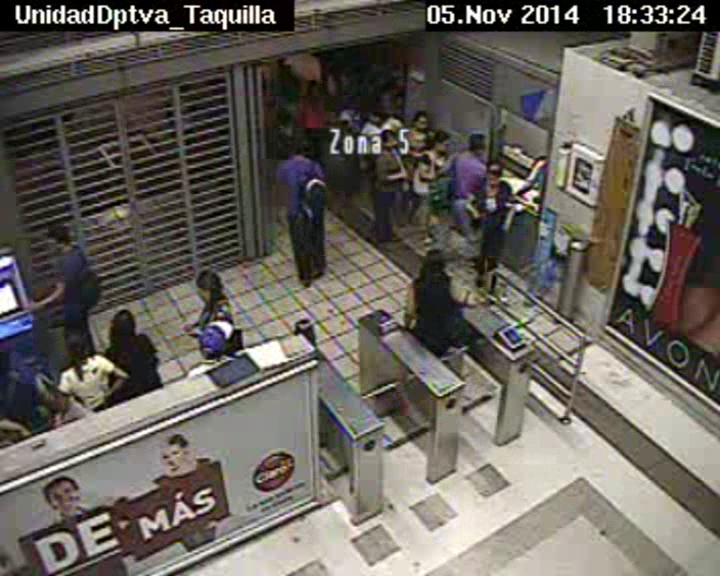person: (194, 269, 224, 303), (62, 328, 92, 360), (109, 309, 136, 340), (421, 247, 445, 274), (51, 223, 74, 247), (484, 163, 504, 187), (468, 132, 488, 156), (288, 136, 309, 157), (431, 130, 450, 152), (378, 131, 398, 150), (413, 109, 431, 130), (372, 104, 388, 121), (306, 80, 322, 97), (336, 122, 351, 135), (279, 66, 292, 80), (340, 94, 352, 106)
